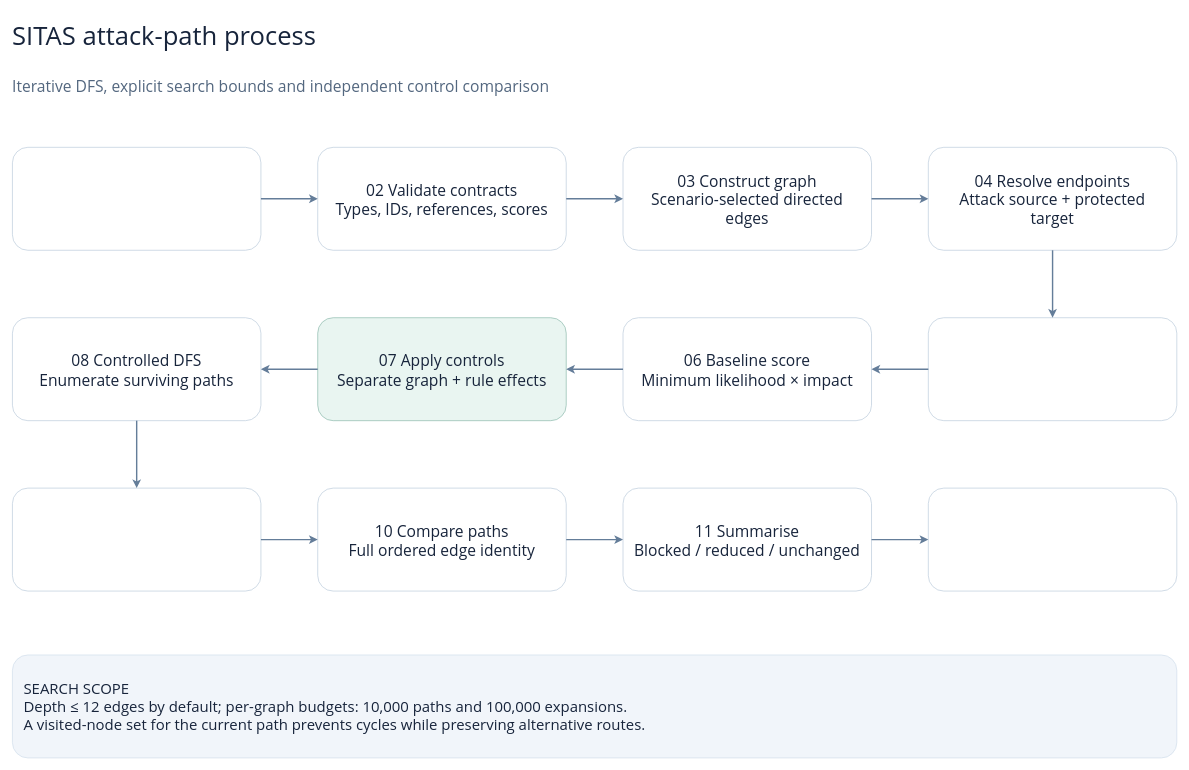
Some shapes in this 1189 by 770 pixel diagram are drawn without their labels. Each missing label, with the box of its shape:
01 Load local JSON Environment, rules, scenarios: (12, 147, 261, 250)
05 Baseline DFS Enumerate simple paths: (928, 317, 1177, 421)
09 Recalculate risk Use effective edge likelihoods: (12, 487, 261, 591)
12 Export reports JSON / CSV / HTML: (928, 487, 1177, 591)
